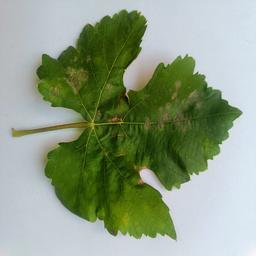Powdery-Mildew: (140, 77, 204, 138), (120, 209, 162, 234), (93, 100, 130, 127), (65, 66, 92, 93), (105, 65, 123, 97), (128, 174, 145, 191), (50, 84, 66, 101)
